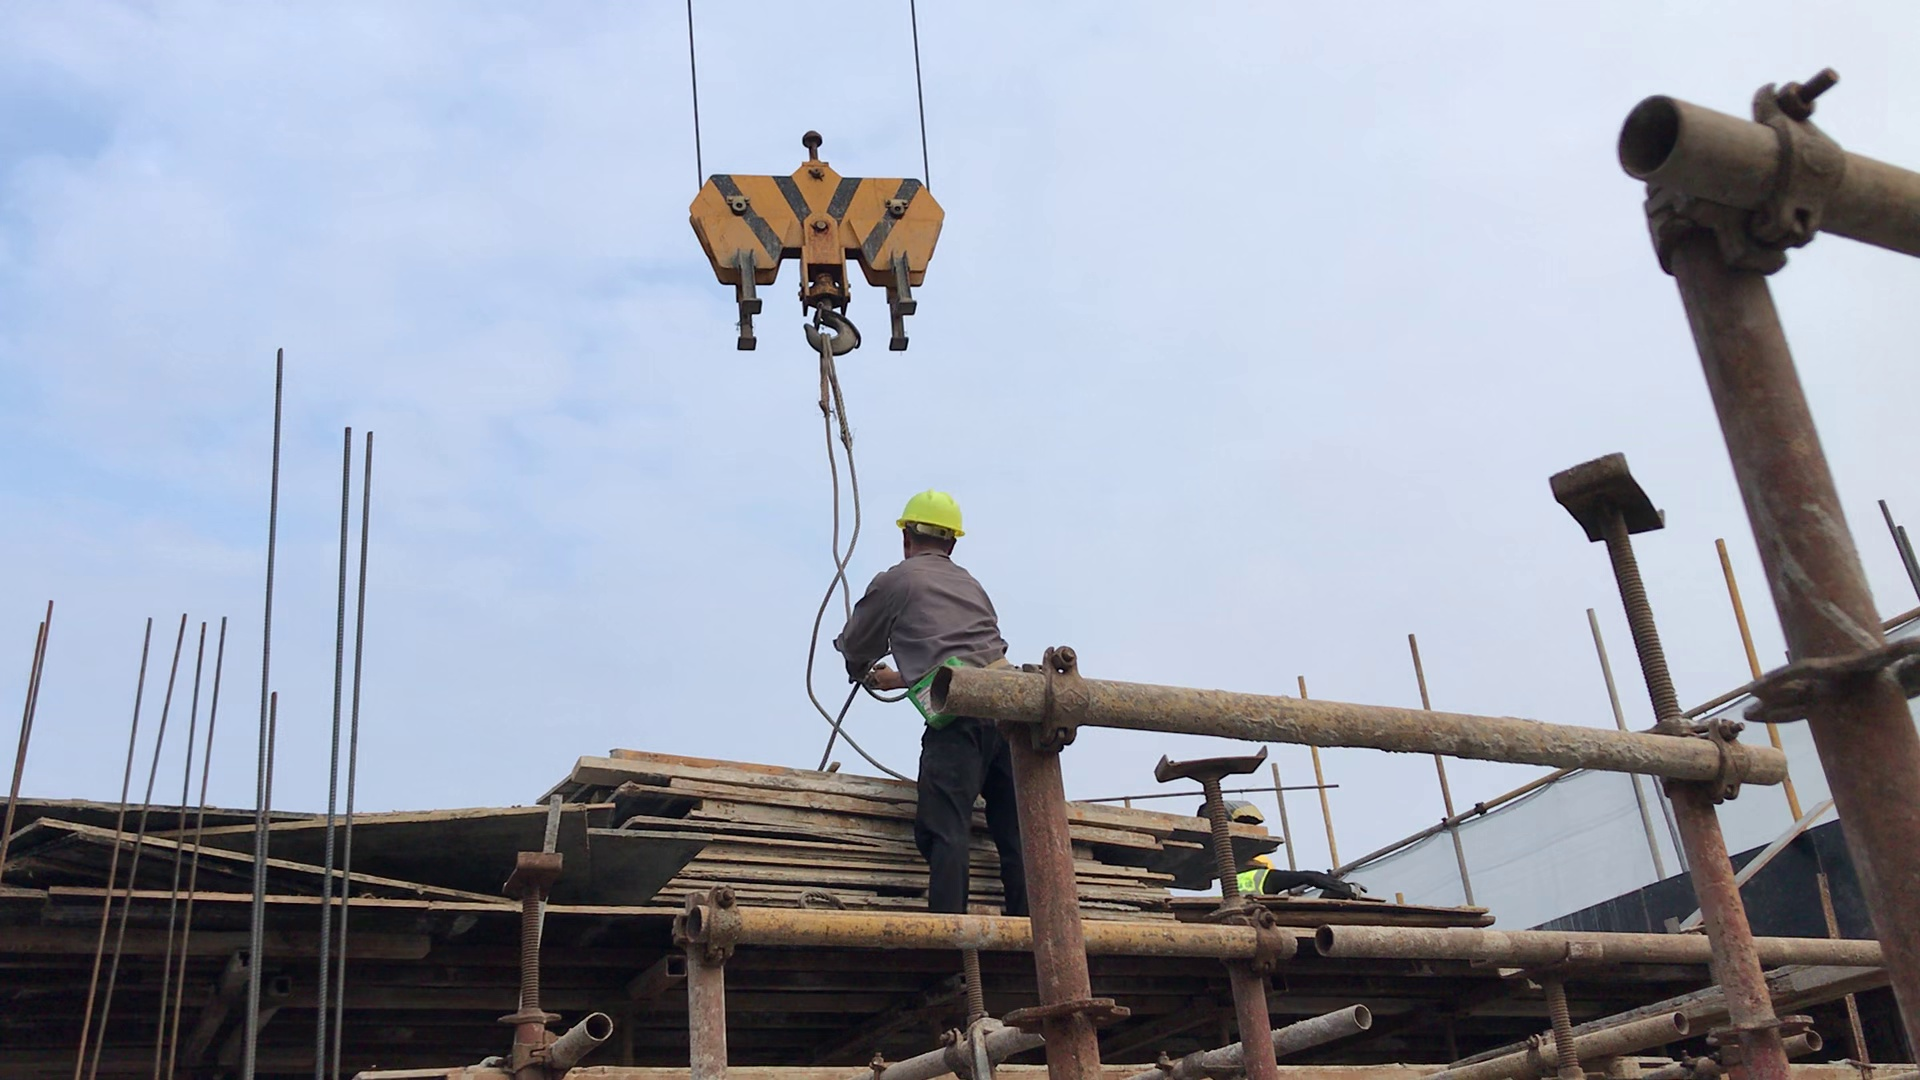board: (573, 753, 1267, 915)
helmet: (894, 491, 962, 533)
hook: (690, 131, 943, 353)
person: (832, 491, 1044, 915)
